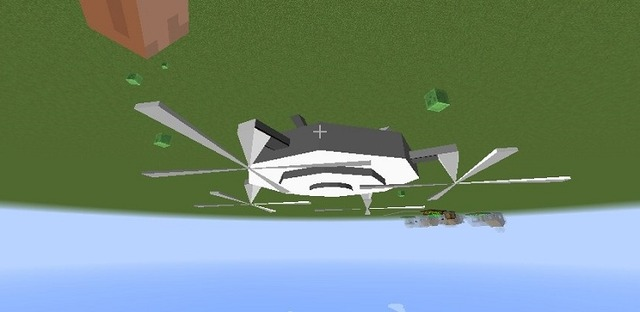drone: (132, 101, 573, 217)
